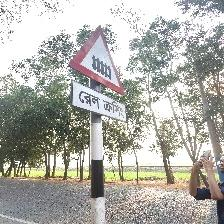Rail-crossing: (67, 24, 127, 125)
